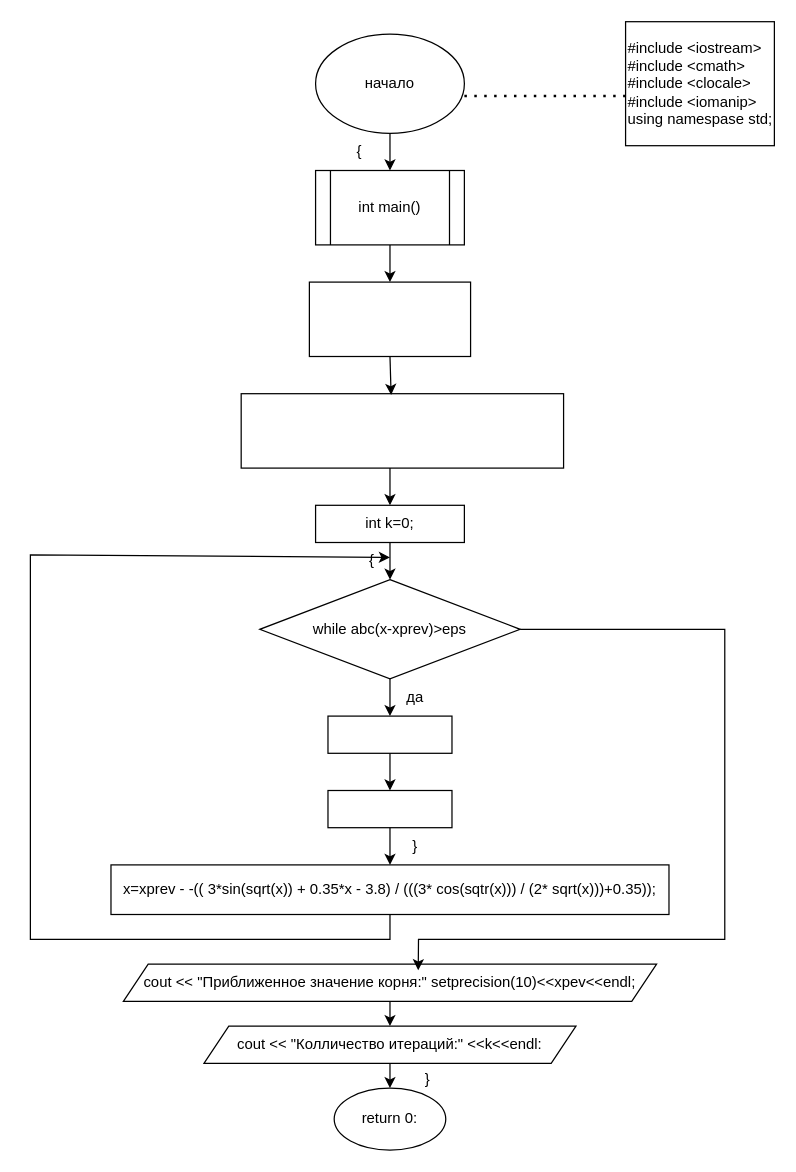
This 796x1172 diagram has some shape labels left out. Here are the shapes that lost their labels. From the top down, the centre of each, then its label:
point (389, 318): setlocale(LC_ALL, "ru");
point (402, 430): float xprev=0, x =3, eps = 0,0001;
point (389, 734): xprev=x;
point (389, 808): k++;
